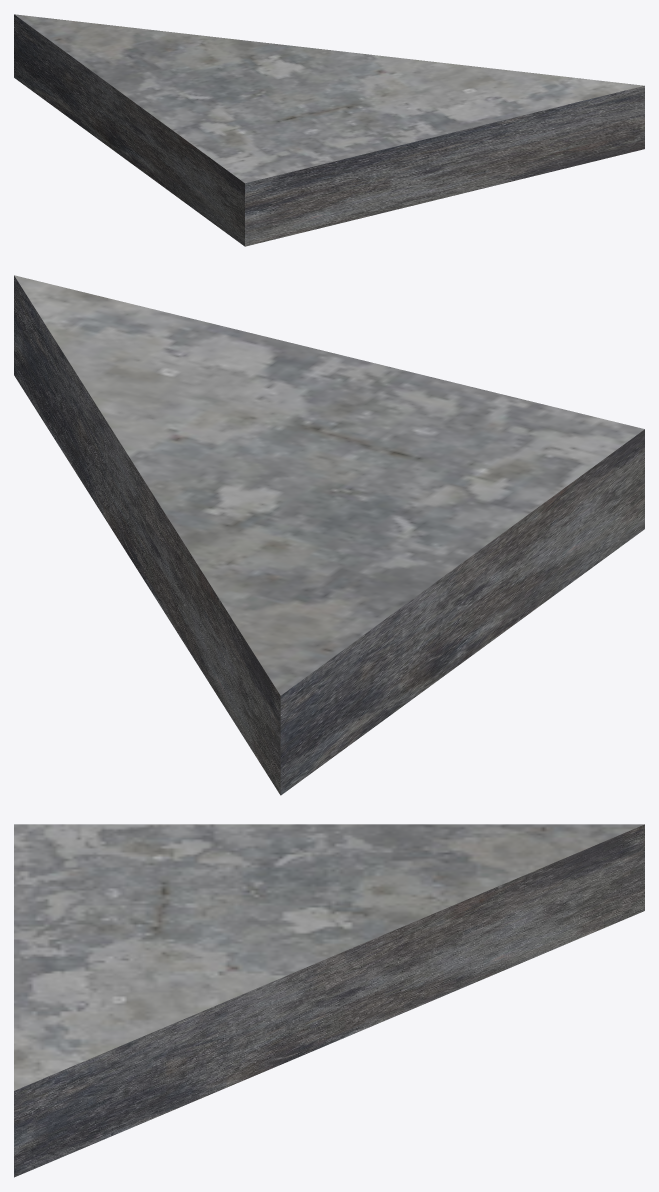
Rendered from monkeylabconfloortri.gltf.
3 renders of one model, top to bottom at view 1: azimuth 30°, elevation 25°; view 2: azimuth 150°, elevation 25°; view 3: azimuth 270°, elevation 25°, orthographic. The views are drawn at different scales.
Parts seen in each view (by area): view 1: Cube; view 2: Cube; view 3: Cube.
Boxes of the visible parts, x1=… form: Cube: x1=14, y1=14, x2=644, y2=246; Cube: x1=14, y1=275, x2=644, y2=795; Cube: x1=14, y1=824, x2=644, y2=1177.
Size of the model in its own units: 3.97 by 0.6002 by 3.97.
1 material, 1 textured.
